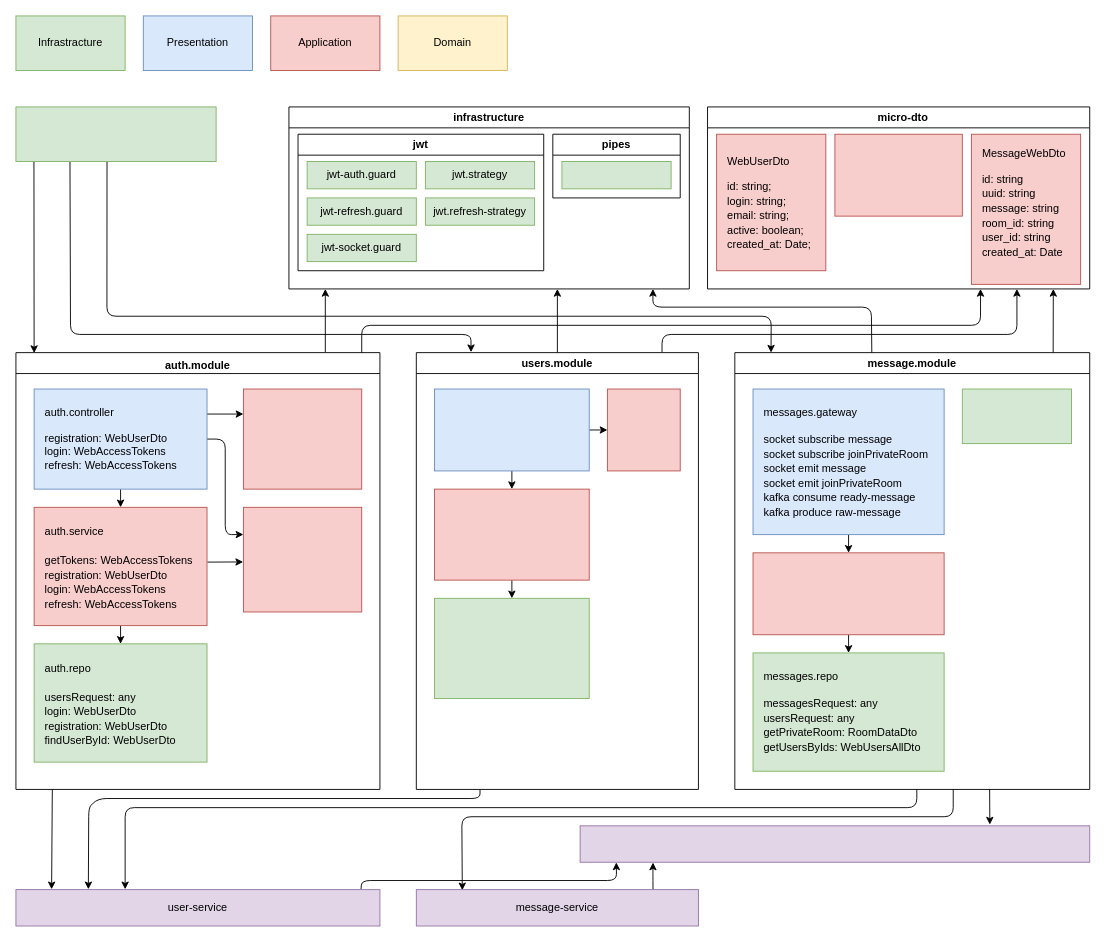
Image size: 1106x943. Some labels were removed from this diagram. Each missing label, with the centre of its shape:
auth . joi registrationJoi loginJoi: (x=302, y=438)
auth.dto WebAccessTokens accessToken : string refreshToken : string: (x=302, y=559)
io.adapter: (x=1016, y=416)
joi.validation.pipe: (x=616, y=175)
kafka: (x=834, y=843)
main Web Server Web Socket: (x=115, y=134)
messages.service getPrivateRoom : RoomDataDto getUsersByIds : WebUsersAllDto: (x=848, y=593)
users.controller findAll : WebUsersAllDto findOne : WebUserDto: (x=511, y=429)
users.joi findByIdJoi findAllJoi: (x=643, y=429)
users.repo usersRequest: any findAll : WebUsersAllDto findUserById : WebUserDto: (x=511, y=647)
users.service findAll : WebUsersAllDto findUserById : WebUserDto: (x=511, y=534)
WebUsersAllDto users: WebUserDto[]; count: number;: (x=898, y=174)
